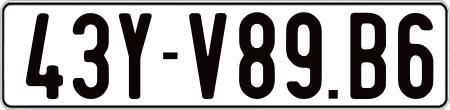3: (70, 13, 111, 99)
4: (26, 12, 63, 99)
6: (398, 11, 434, 97)
8: (239, 11, 279, 99)
9: (285, 9, 325, 100)
B: (350, 11, 387, 98)
V: (187, 13, 230, 103)
Y: (118, 10, 156, 101)
